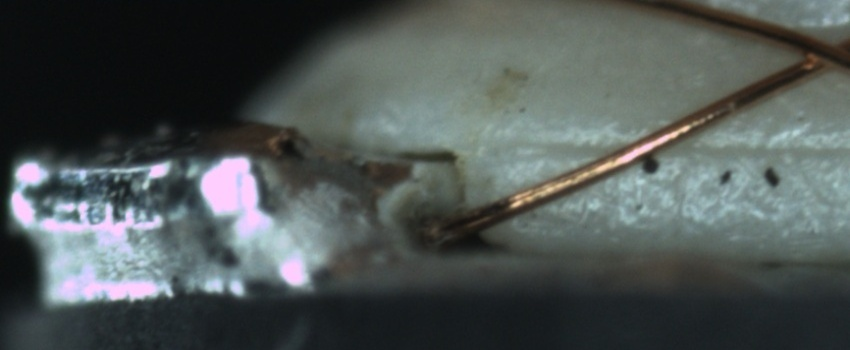CL: (779, 23, 848, 79)
DL: (502, 115, 847, 177)
